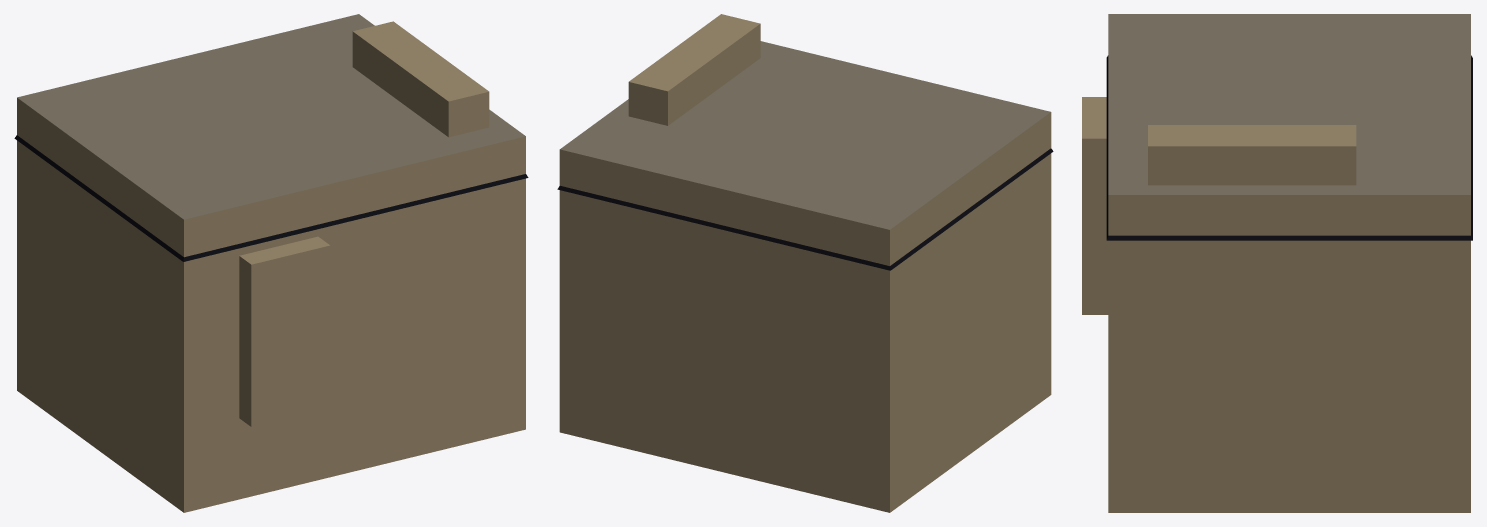
File: ns-mansard-flats.towns-v1.lod2.glb
The picture shows the model from 3 angles, left to right: view 1: azimuth 30°, elevation 25°; view 2: azimuth 150°, elevation 25°; view 3: azimuth 270°, elevation 25°; orthographic projection. The views are drawn at different scales.
Parts seen in each view (by area): view 1: ns-mansard-flats; view 2: ns-mansard-flats; view 3: ns-mansard-flats.
Boxes of the visible parts, x1,y1,x2,y2 form: ns-mansard-flats: (14,14,528,512); ns-mansard-flats: (557,14,1053,512); ns-mansard-flats: (1082,14,1472,512).
Size of the model in its own units: 13.12 by 11.95 by 11.86.
